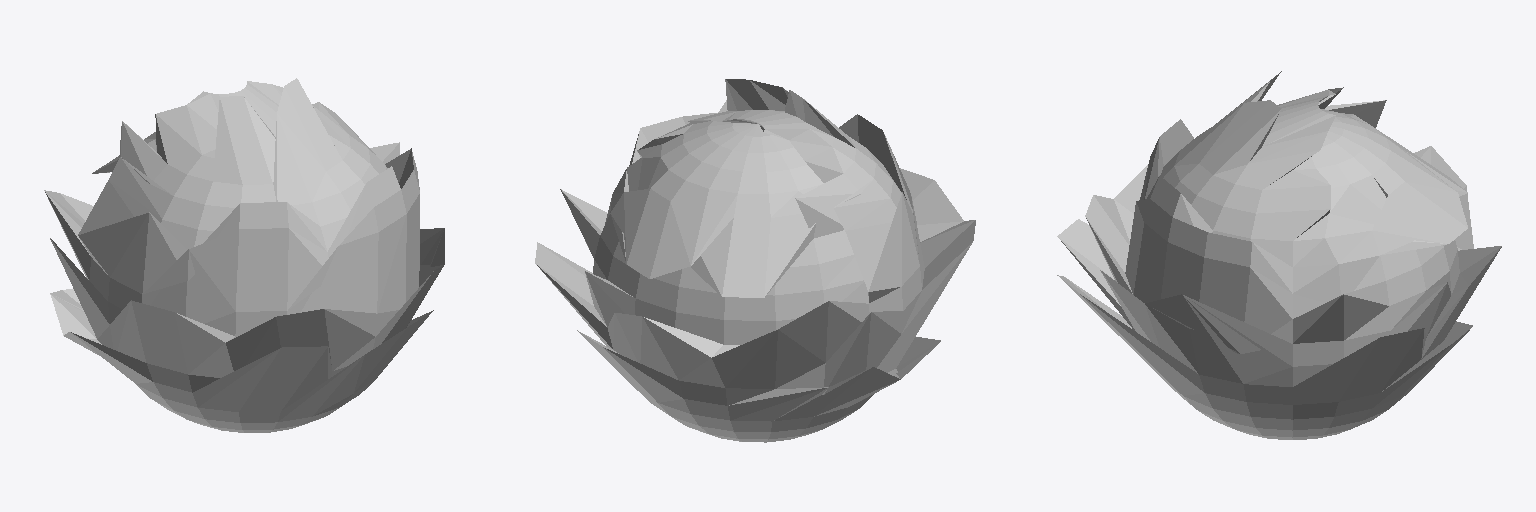
Rendered from Lettuce.obj.
The picture shows the model from 3 angles: view 1: azimuth 30°, elevation 25°; view 2: azimuth 150°, elevation 25°; view 3: azimuth 270°, elevation 25°; orthographic projection.
Visible parts, largest first — view 1: pSphere1; view 2: pSphere1; view 3: pSphere1.
Part boxes in pixels (left/top/right/bottom): pSphere1: left=44, top=78, right=444, bottom=432; pSphere1: left=535, top=79, right=975, bottom=442; pSphere1: left=1057, top=71, right=1501, bottom=439.
Size of the model in its own units: 3.67 by 3.25 by 3.92.